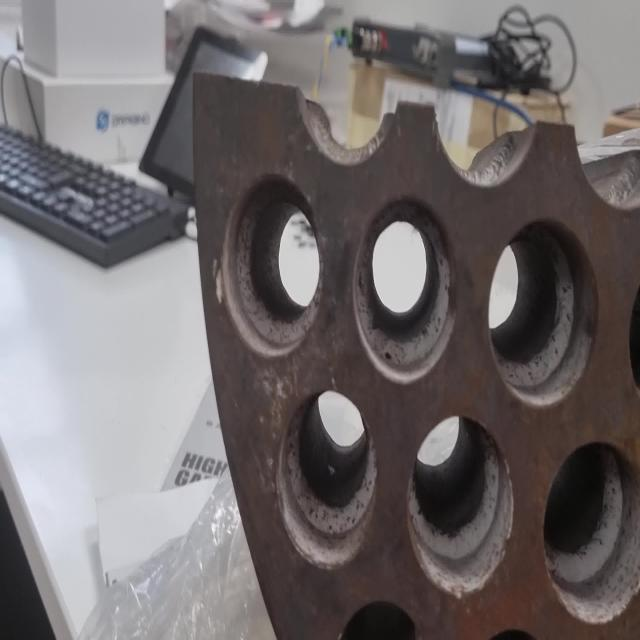Hole: (488, 214, 599, 408), (406, 411, 515, 599), (215, 172, 324, 358), (352, 193, 456, 383), (276, 389, 378, 569), (543, 440, 639, 628), (327, 596, 431, 640)
